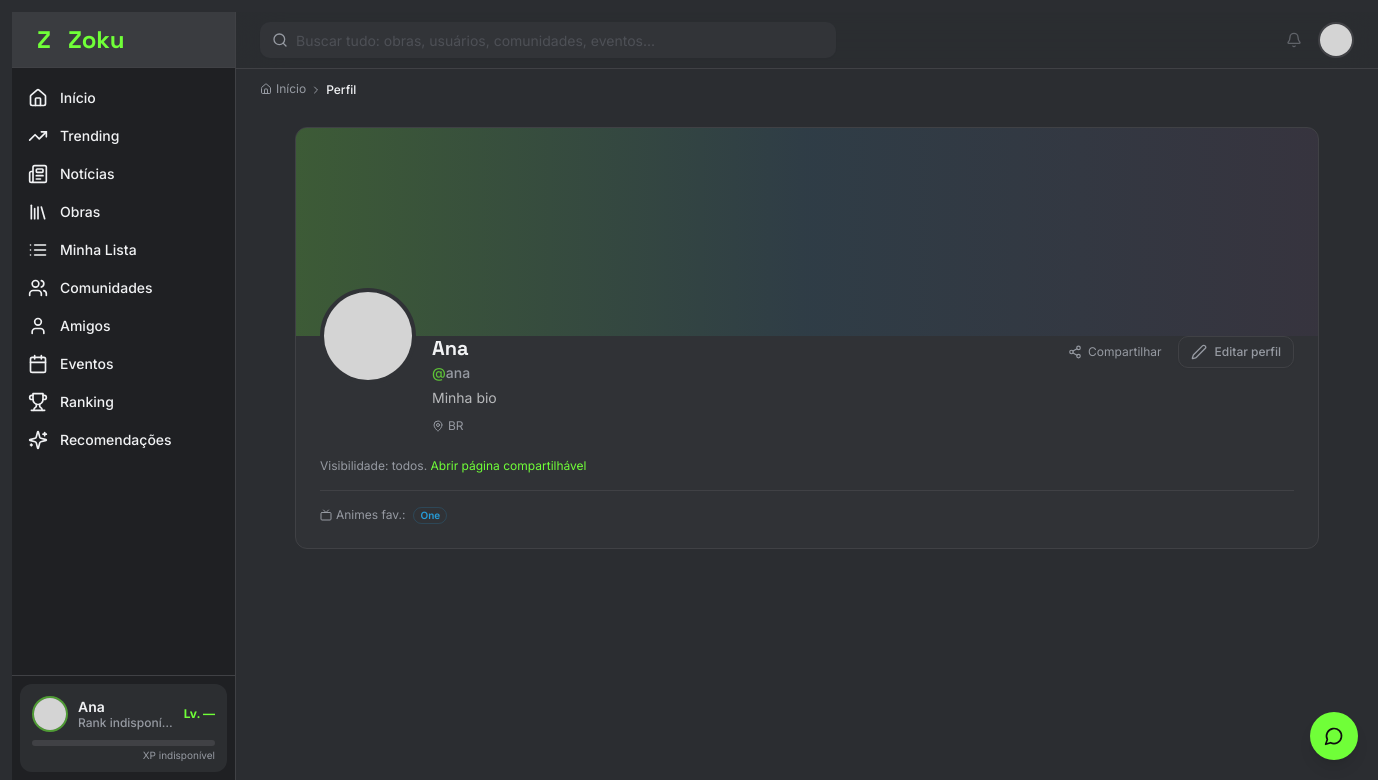
it: logout discards open private editor and signed media
The width and height of the screenshot is (1378, 780).
Click the button "Editar perfil".
click(1236, 352)  # box [1178,336,1294,368]
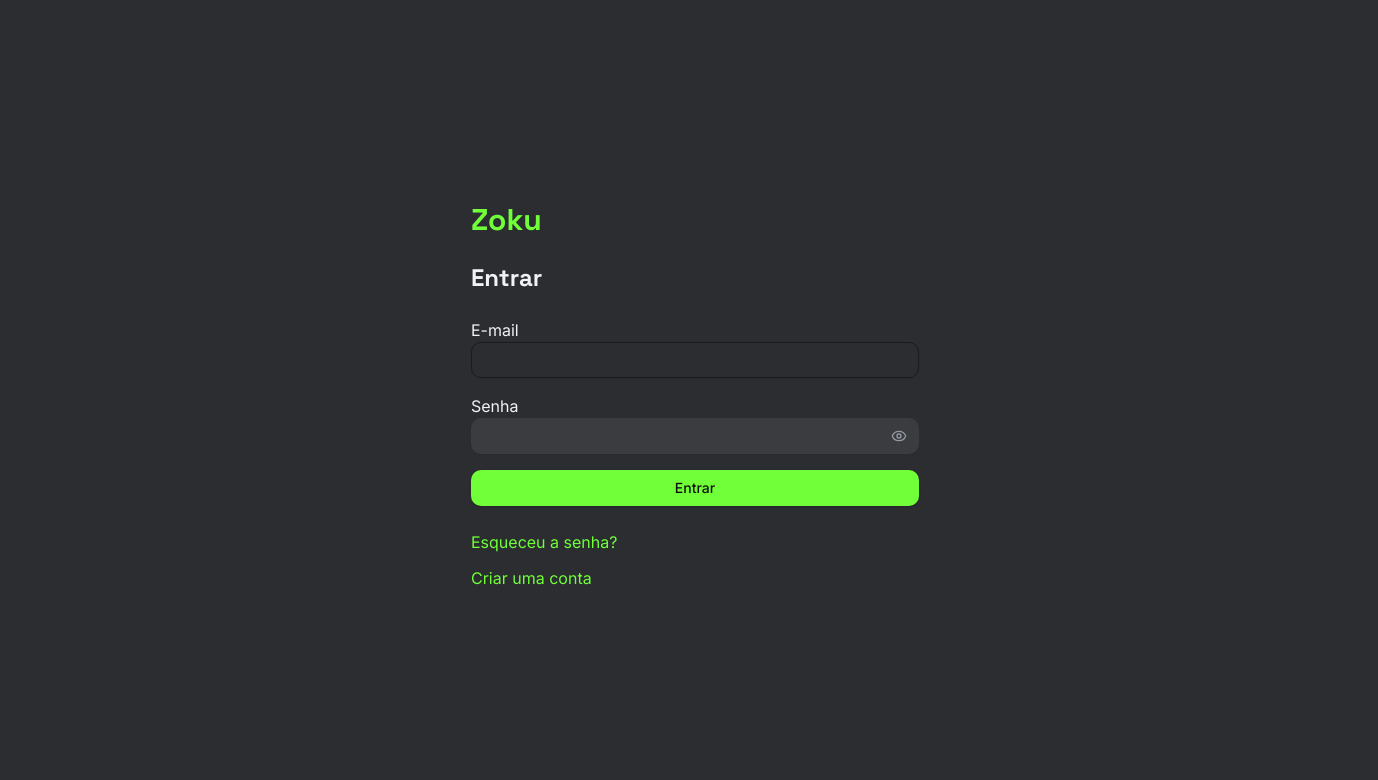
Expected: the heading "Entrar" is shown, [471,262,542,293]
Expected: the picture with alt text "Foto de Ana" is gone
